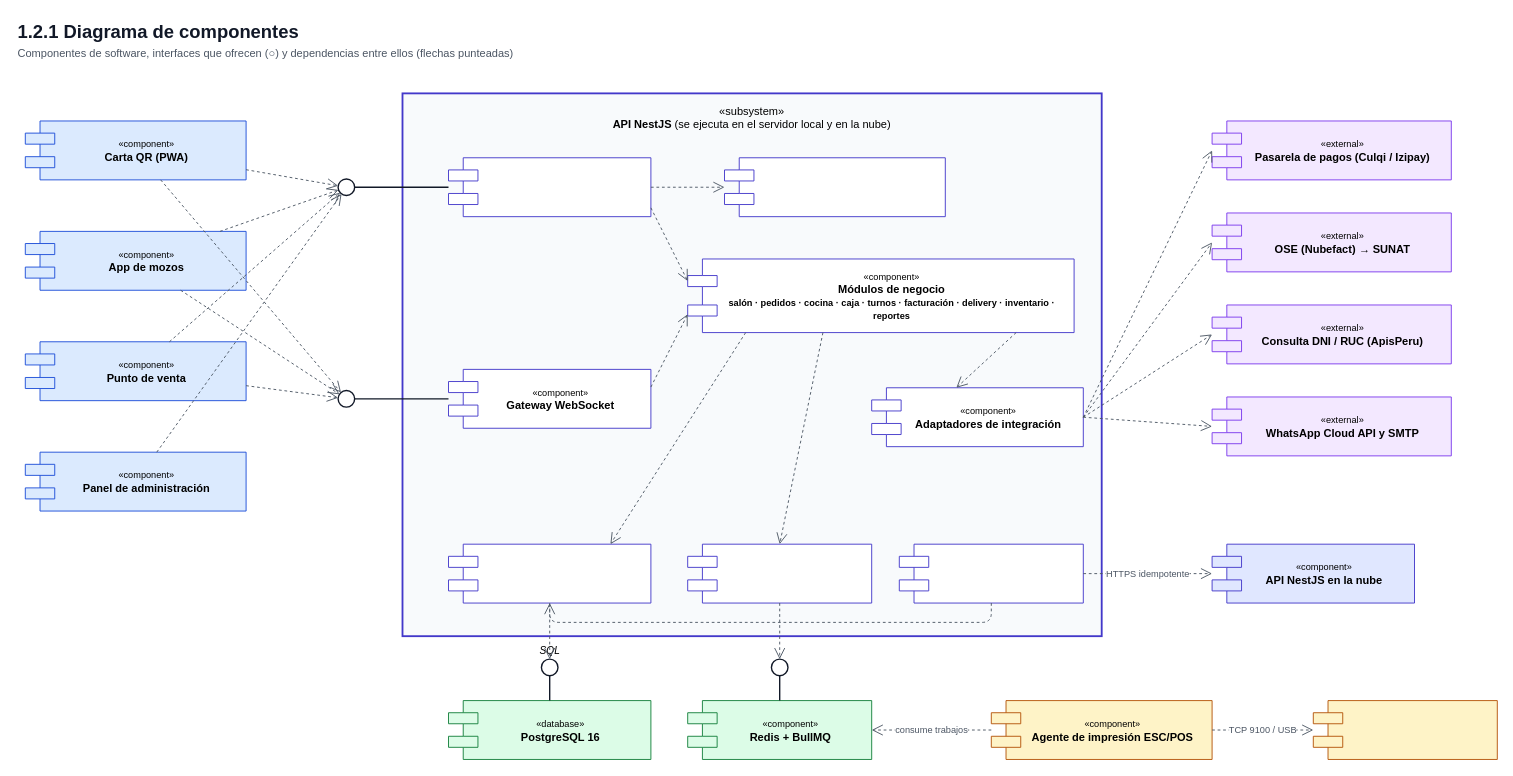
This 1513x776 diagram has some shape labels left out. Here are the shapes that lost their labels. From the top down, the centre of each, then its label:
the point at 346,187: API REST (HTTPS / JSON)
the point at 549,187: «component» Controladores REST
the point at 834,187: «component» Autenticación y roles
the point at 346,398: Eventos en tiempo real (WSS)
the point at 549,573: «component» Repositorios (Prisma)
the point at 779,573: «component» Productor de colas
the point at 990,573: «component» Sincronización (outbox)
the point at 779,667: Colas
the point at 1404,729: «device» Ticketeras y gaveta
